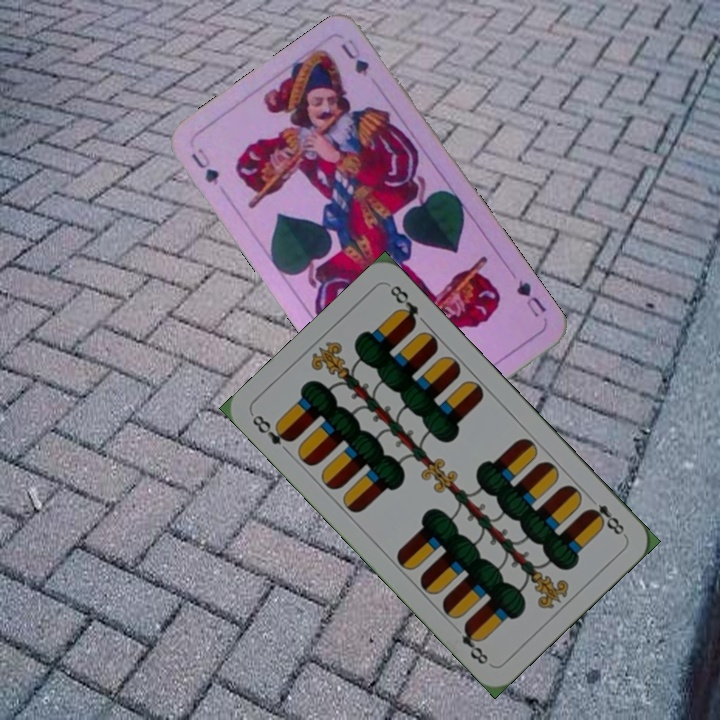E8: (583, 499, 629, 539), (248, 410, 296, 448)
GU: (512, 275, 549, 320), (187, 144, 222, 188)
